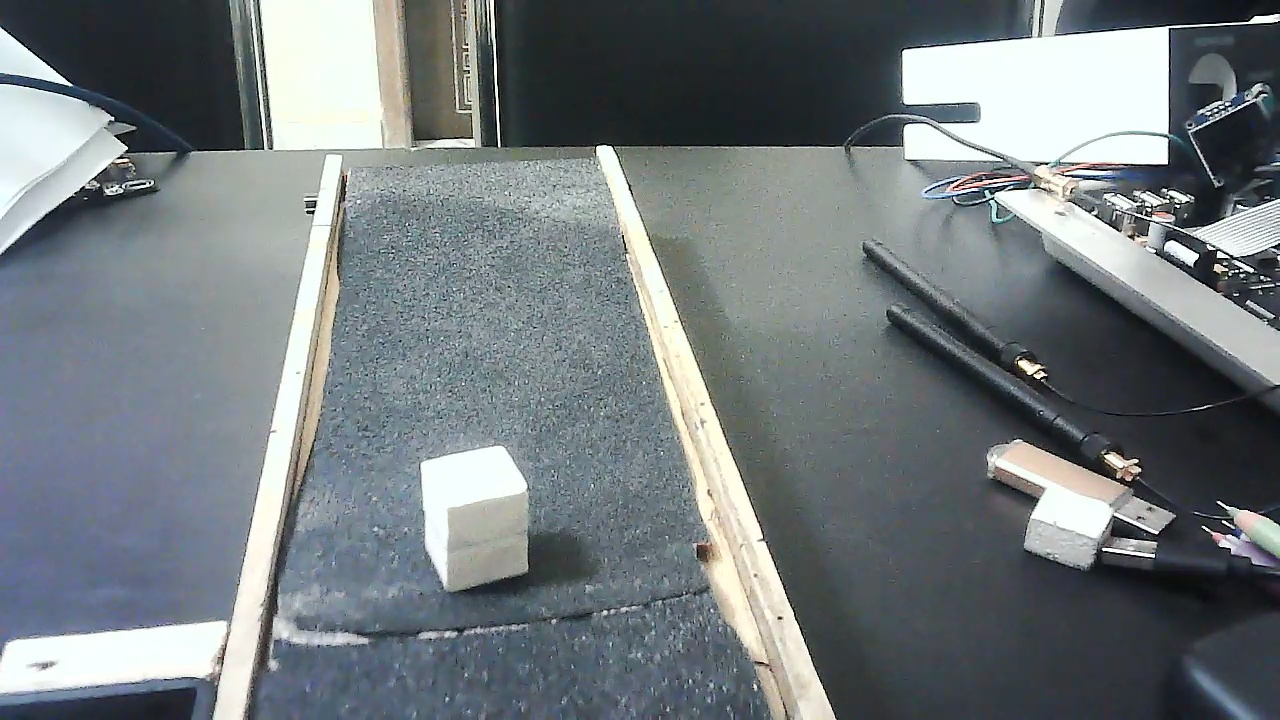Small: (401, 445, 549, 593)
